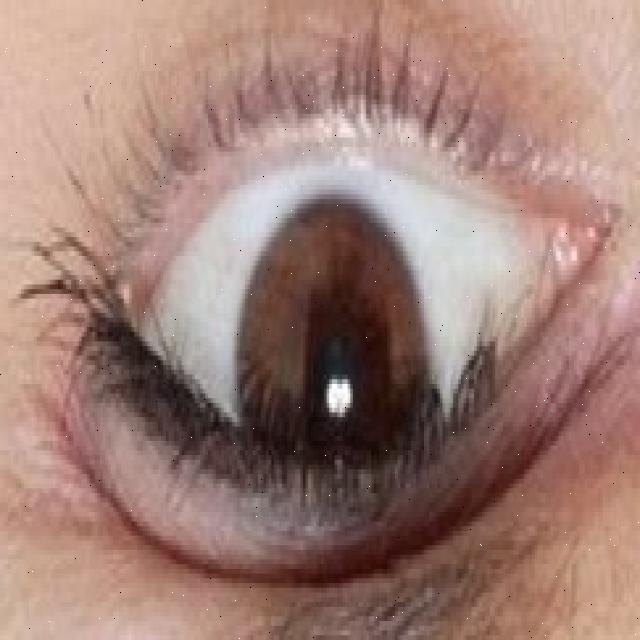Normal: (233, 190, 427, 520)
